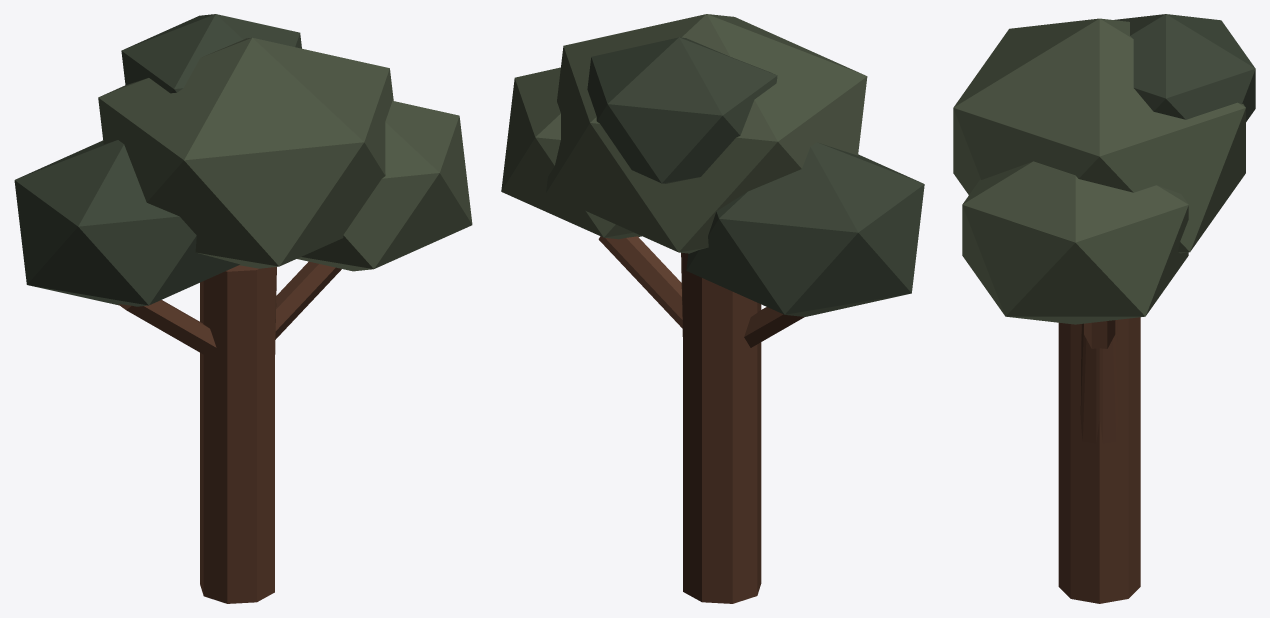
The model's file is env-tree-a.glb.
The picture shows the model from 3 angles, left to right: view 1: azimuth 30°, elevation 25°; view 2: azimuth 150°, elevation 25°; view 3: azimuth 270°, elevation 25°; orthographic projection. The views are drawn at different scales.
Visible parts, largest first — view 1: VIS_crown_1, COL_trunk, VIS_crown_2, VIS_crown_3, VIS_crown_4, VIS_bough_l, VIS_bough_r; view 2: VIS_crown_1, VIS_crown_2, COL_trunk, VIS_crown_4, VIS_crown_3, VIS_bough_r, VIS_bough_l; view 3: VIS_crown_1, VIS_crown_3, COL_trunk, VIS_crown_4, VIS_trunk, VIS_bough_r.
Boxes of the visible parts, <box> form: VIS_crown_1: <box>98,37,393,268</box>; COL_trunk: <box>200,265,274,603</box>; VIS_crown_2: <box>14,140,239,306</box>; VIS_crown_3: <box>297,101,472,271</box>; VIS_crown_4: <box>121,14,301,93</box>; VIS_bough_l: <box>118,300,216,357</box>; VIS_bough_r: <box>275,261,341,339</box>; VIS_crown_1: <box>546,14,867,253</box>; VIS_crown_2: <box>686,142,924,316</box>; COL_trunk: <box>683,253,761,603</box>; VIS_crown_4: <box>587,37,777,183</box>; VIS_crown_3: <box>501,67,641,239</box>; VIS_bough_r: <box>598,236,682,328</box>; VIS_bough_l: <box>744,307,804,347</box>; VIS_crown_1: <box>953,18,1245,253</box>; VIS_crown_3: <box>962,161,1188,324</box>; COL_trunk: <box>1058,317,1140,603</box>; VIS_crown_4: <box>1114,14,1255,121</box>; VIS_trunk: <box>1080,320,1118,443</box>; VIS_bough_r: <box>1084,320,1115,348</box>.
Bounding box in the file's own units: 4.1 × 5.28 × 2.51.
